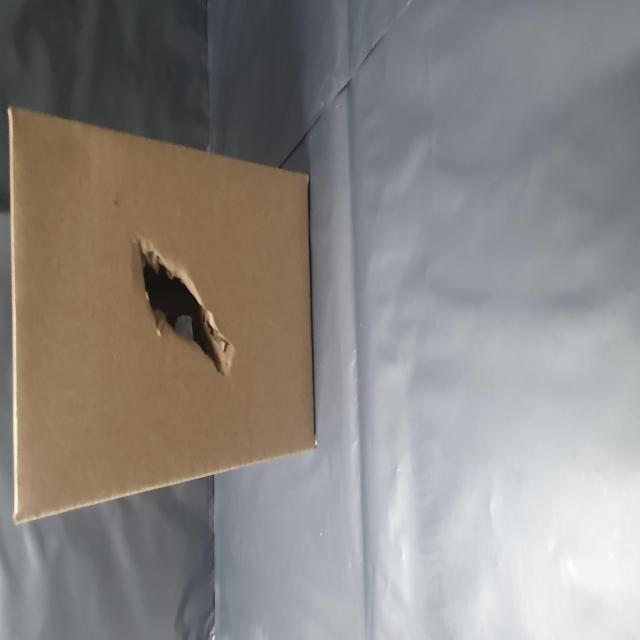damaged: (131, 227, 231, 407)
